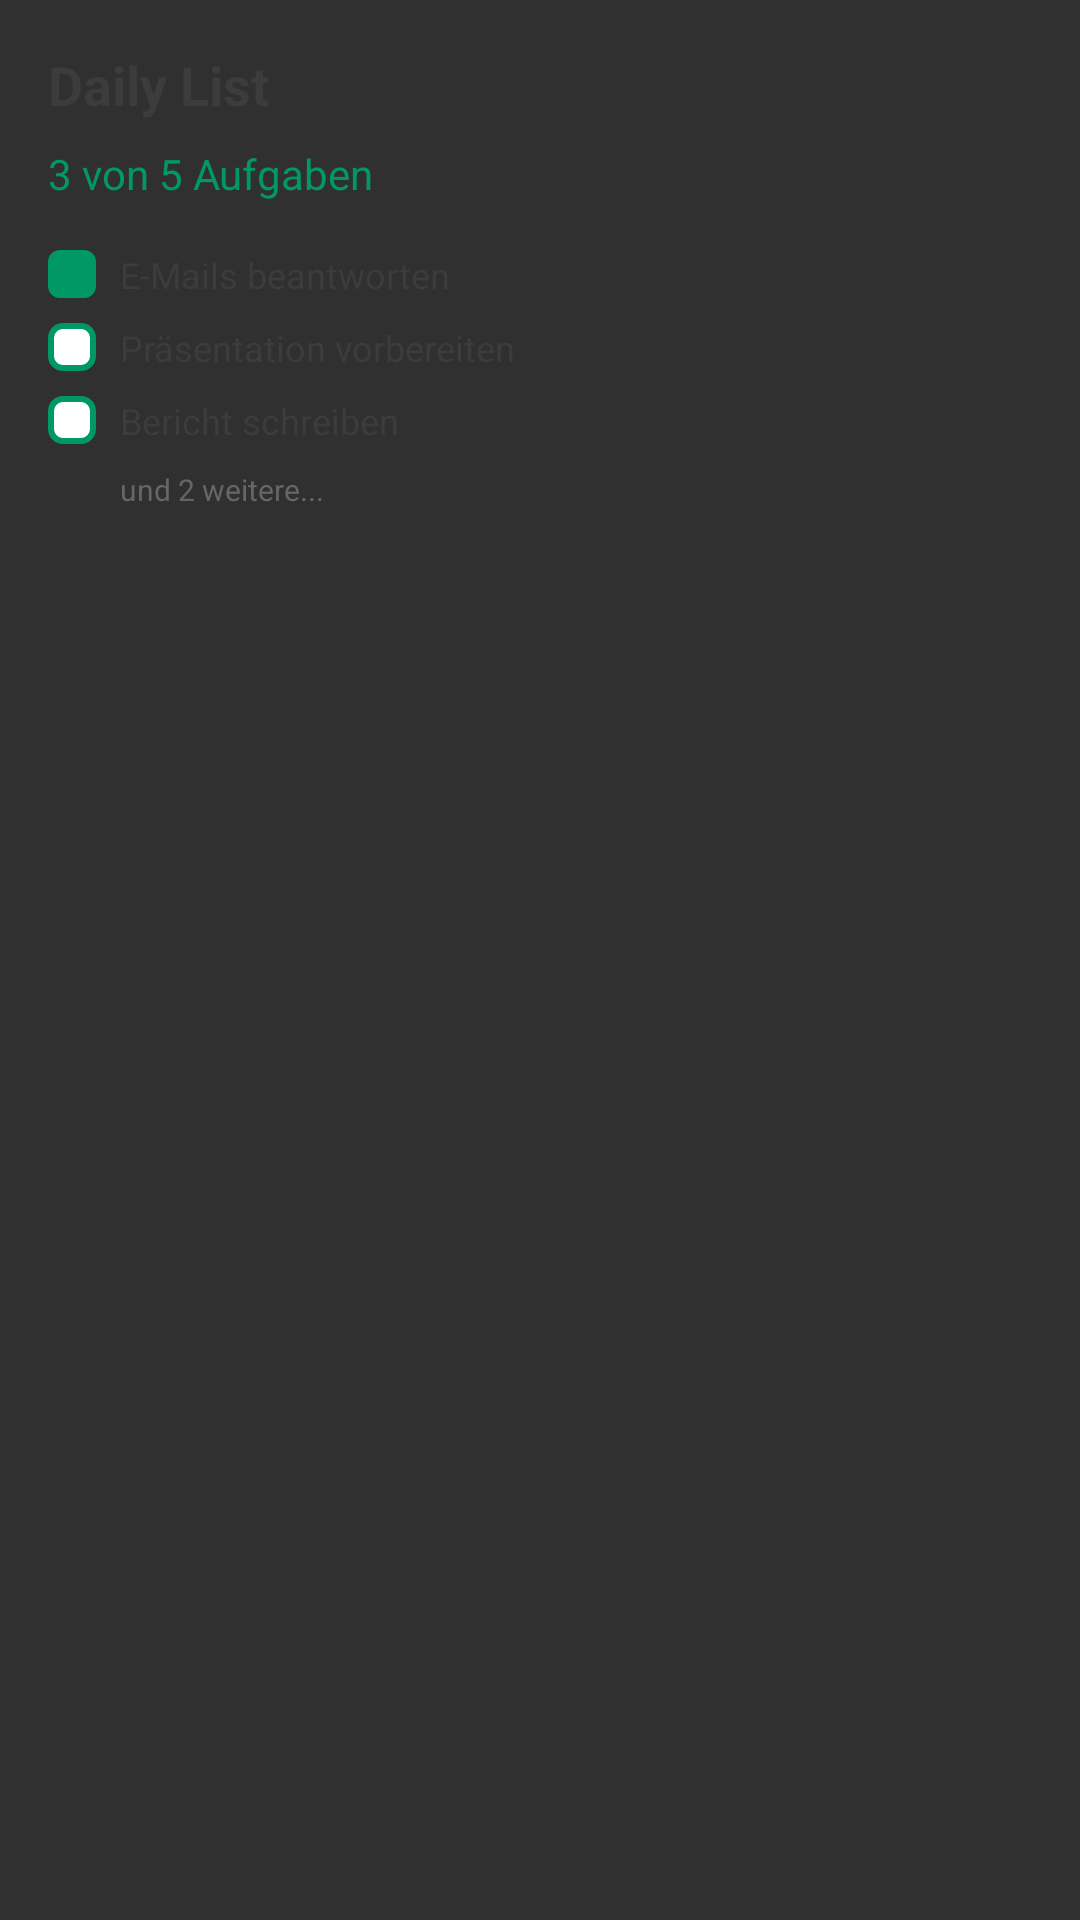

Point at icon controls on the screen. Image size 1080px x 1920px, points as [x,y].
checkbox checked: [72,274]
checkbox unchecked: [72,347], [72,420]
